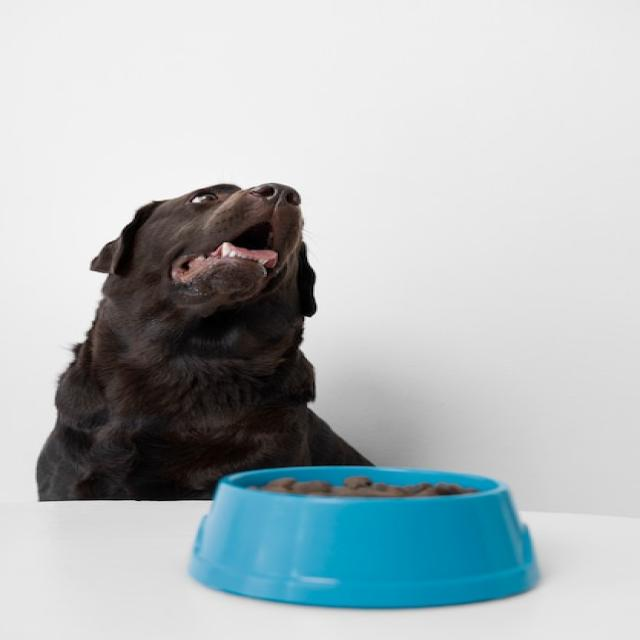Dog: (35, 182, 376, 504)
